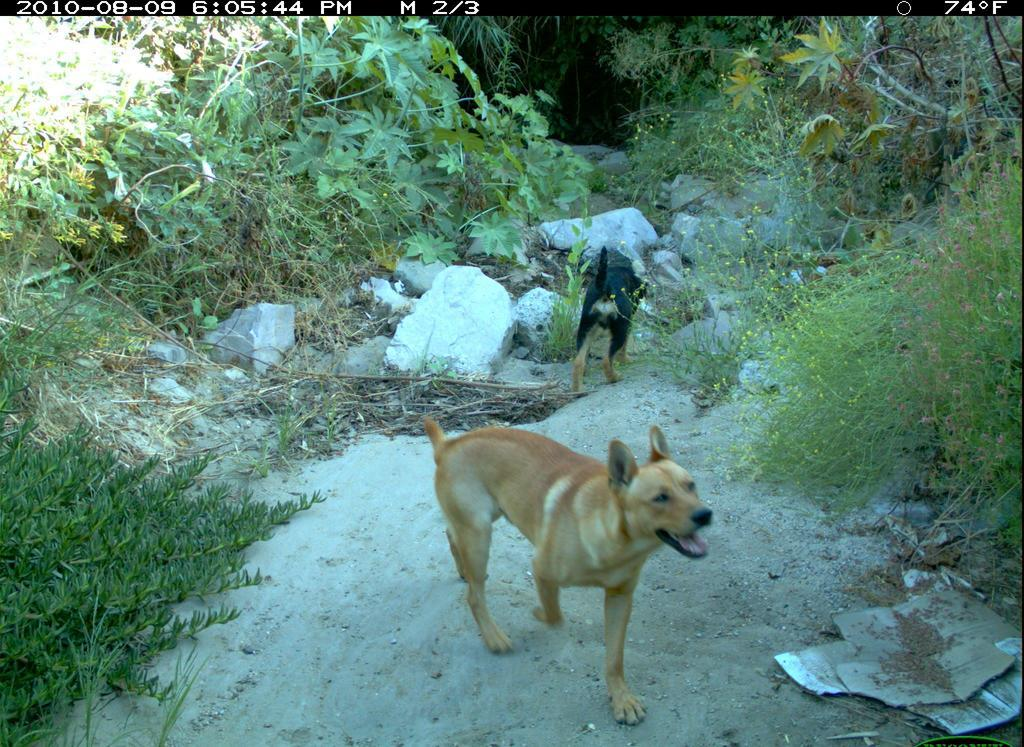dog: (397, 395, 753, 743), (568, 239, 646, 399)
